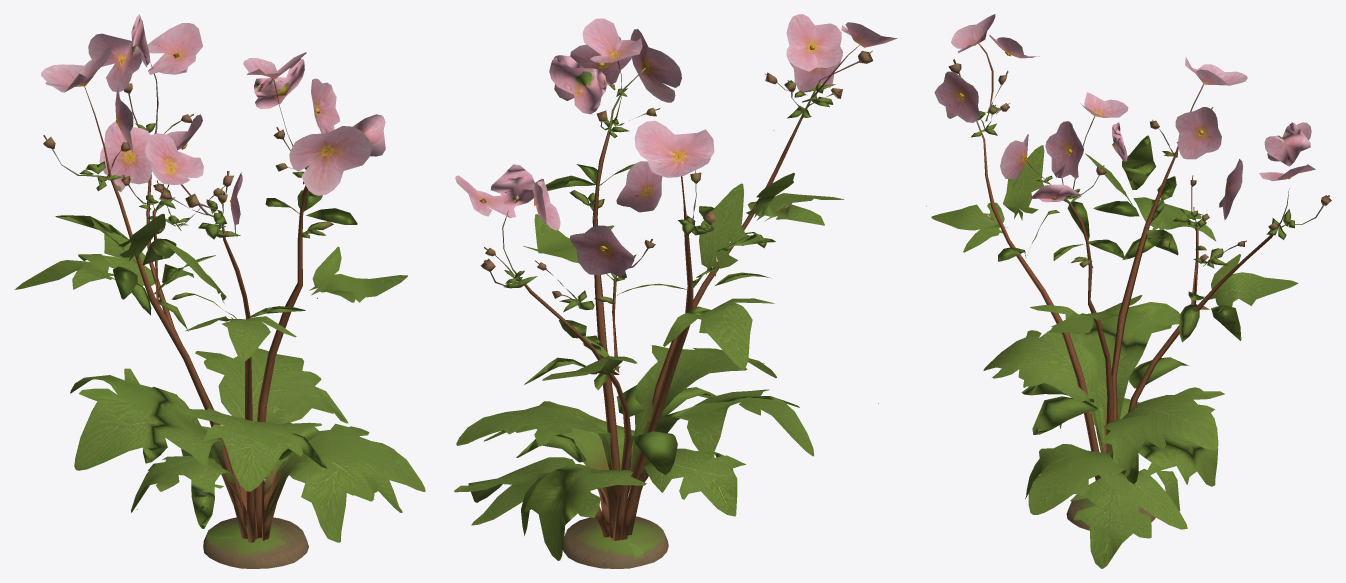
File: YinLianHua_Hong.glb
3 renders of one model, left to right at view 1: azimuth 30°, elevation 25°; view 2: azimuth 150°, elevation 25°; view 3: azimuth 270°, elevation 25°, orthographic. The views are drawn at different scales.
Parts seen in each view (by area): view 1: tripo_node_e983965f-2987-48f4-8f90-e148b48b123f; view 2: tripo_node_e983965f-2987-48f4-8f90-e148b48b123f; view 3: tripo_node_e983965f-2987-48f4-8f90-e148b48b123f.
Part boxes in pixels (left/top/right/bottom): tripo_node_e983965f-2987-48f4-8f90-e148b48b123f: left=14, top=14, right=425, bottom=568; tripo_node_e983965f-2987-48f4-8f90-e148b48b123f: left=454, top=14, right=897, bottom=568; tripo_node_e983965f-2987-48f4-8f90-e148b48b123f: left=926, top=14, right=1331, bottom=568.
Bounding box in the file's own units: 0.6855 × 0.998 × 0.8574.
Materials: 1 (1 with a texture image).
